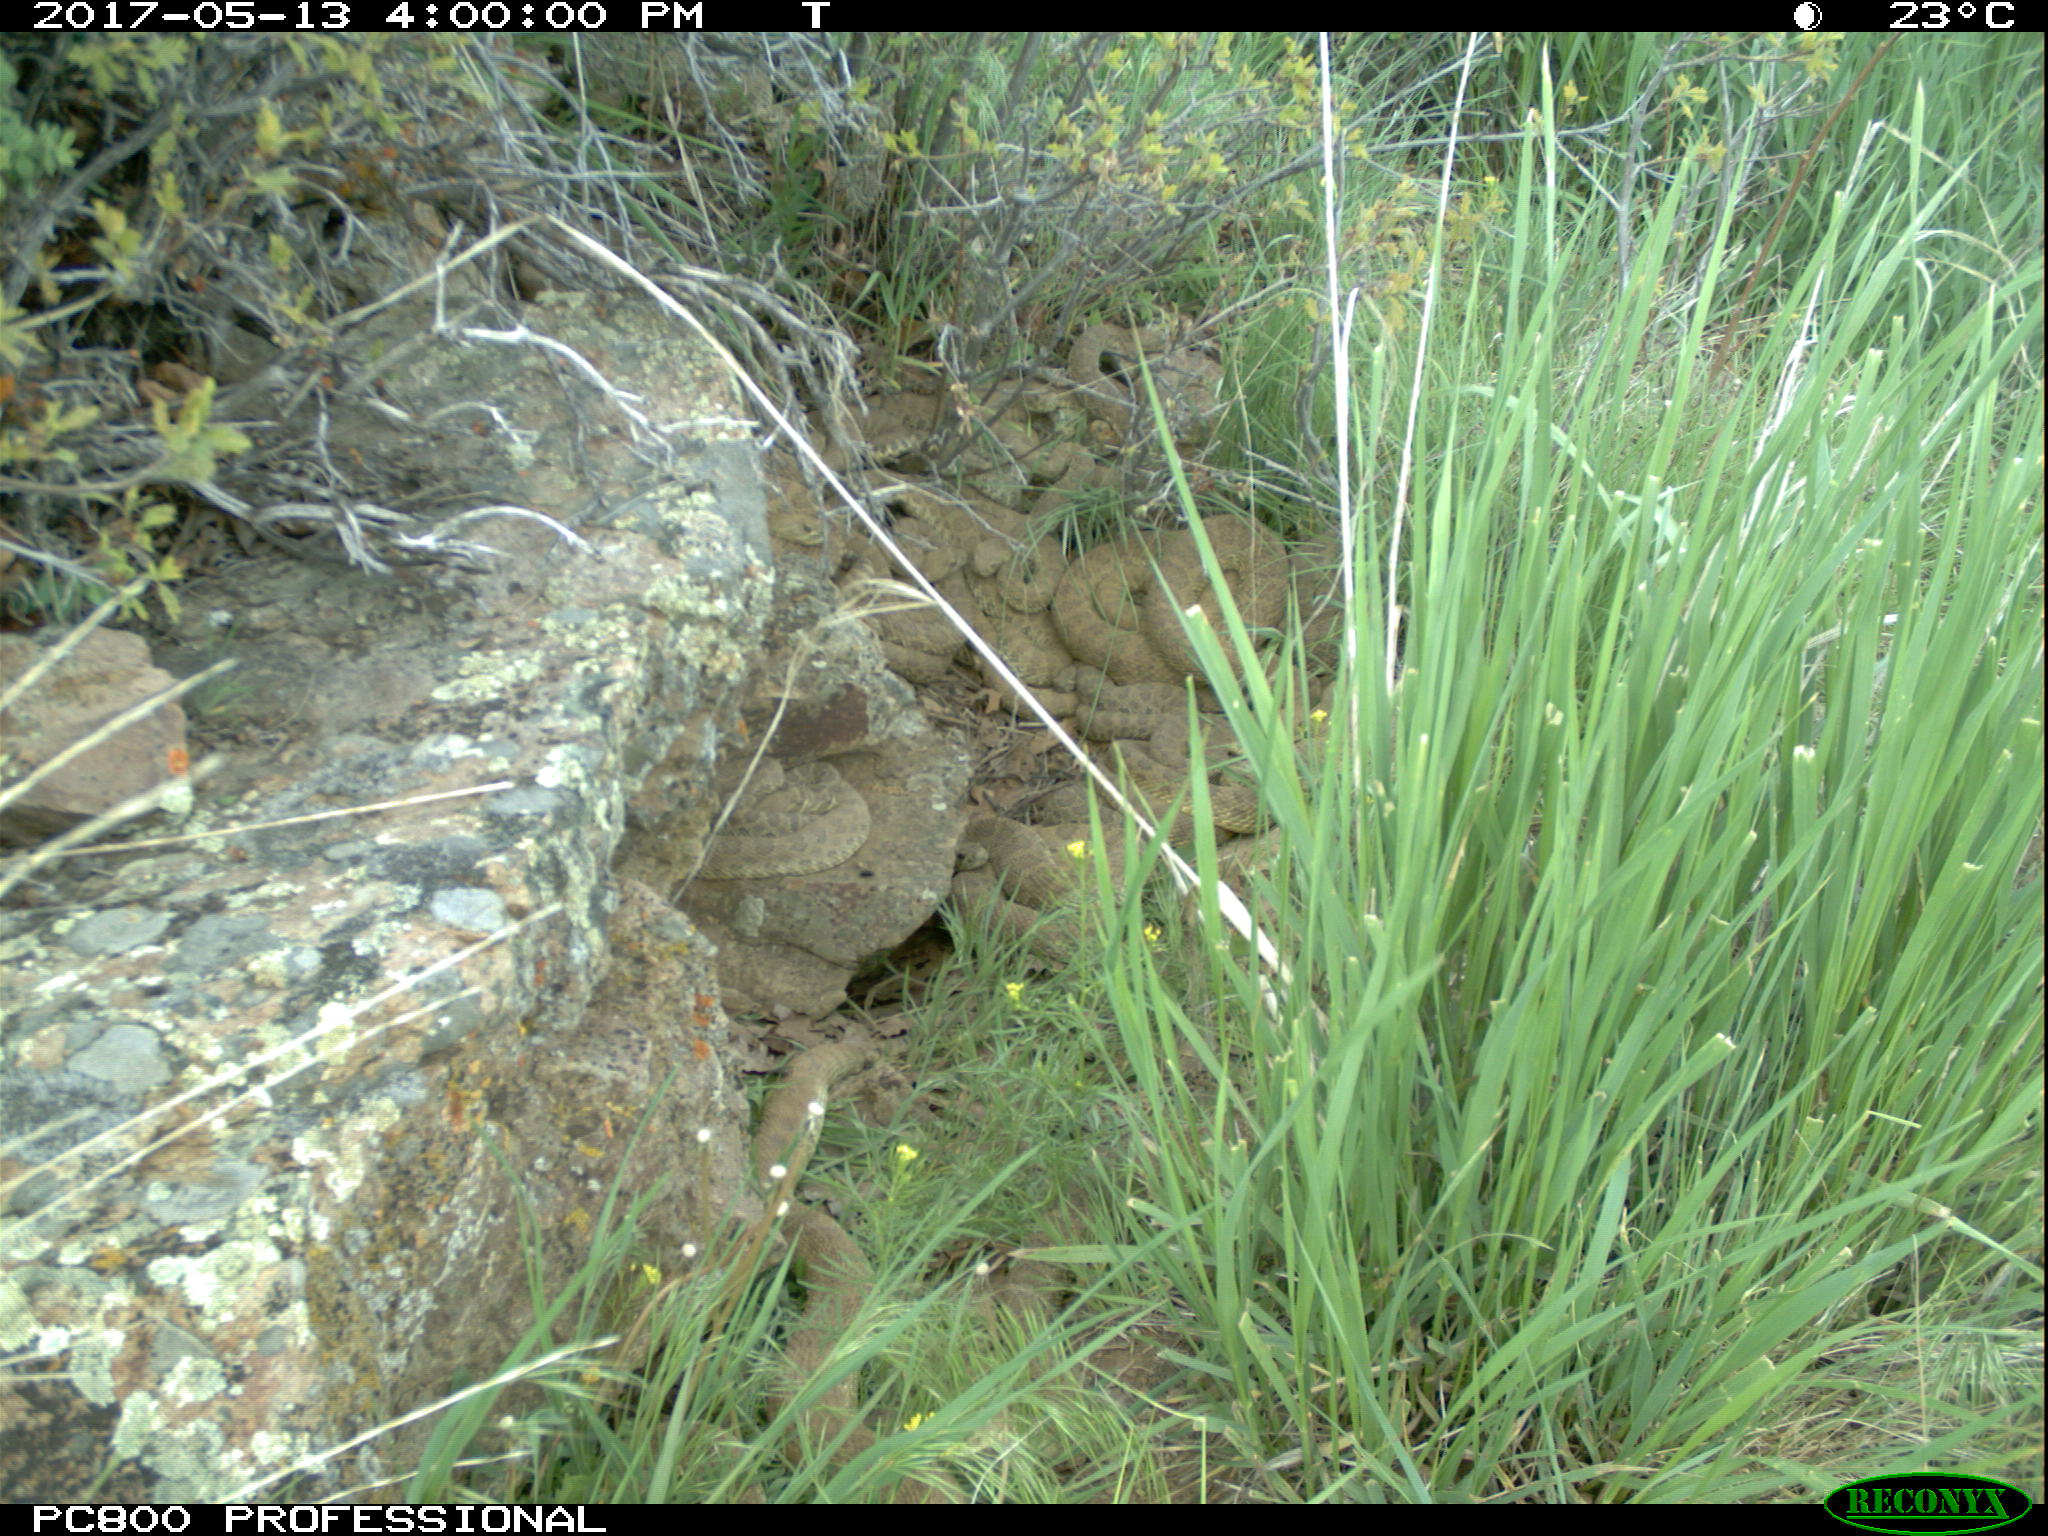snake: (753, 1025, 885, 1488), (1050, 511, 1280, 687), (1080, 712, 1274, 839), (947, 808, 1101, 965), (698, 744, 868, 884), (963, 526, 1074, 699), (868, 529, 968, 684), (1064, 316, 1177, 440), (874, 466, 980, 592), (843, 392, 930, 457), (768, 515, 830, 552)
